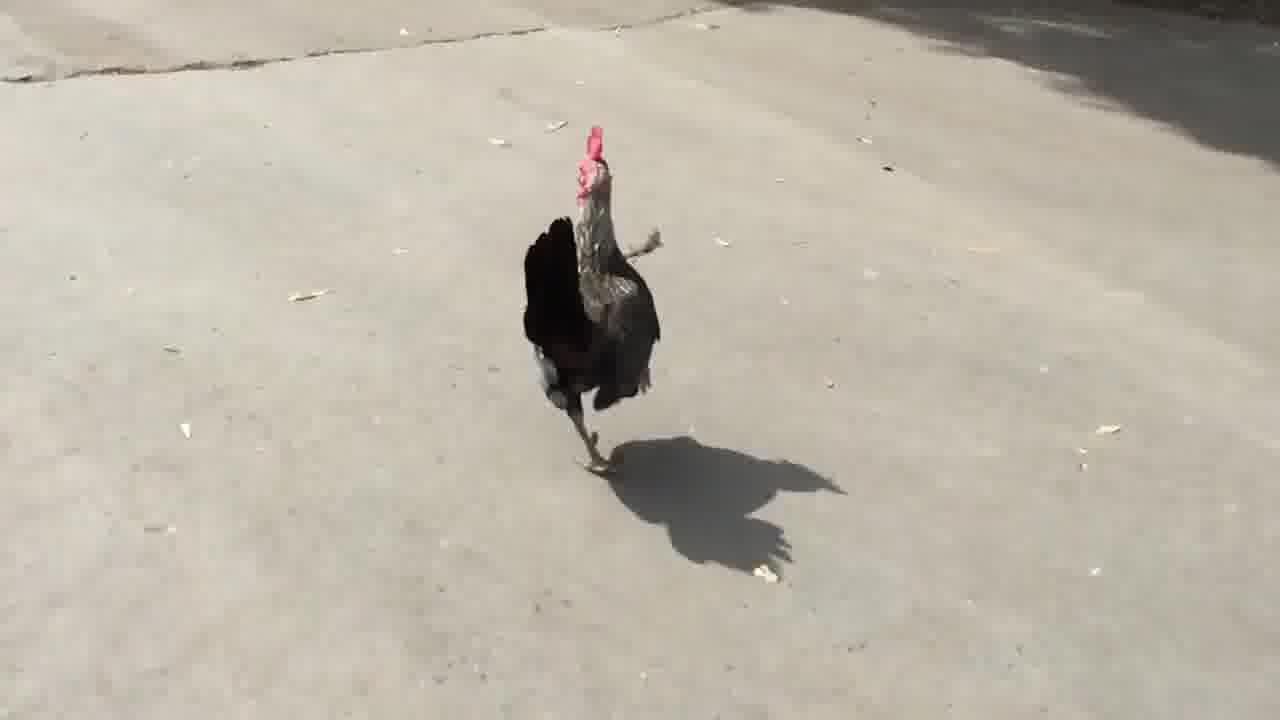Normal: (510, 120, 682, 484)
